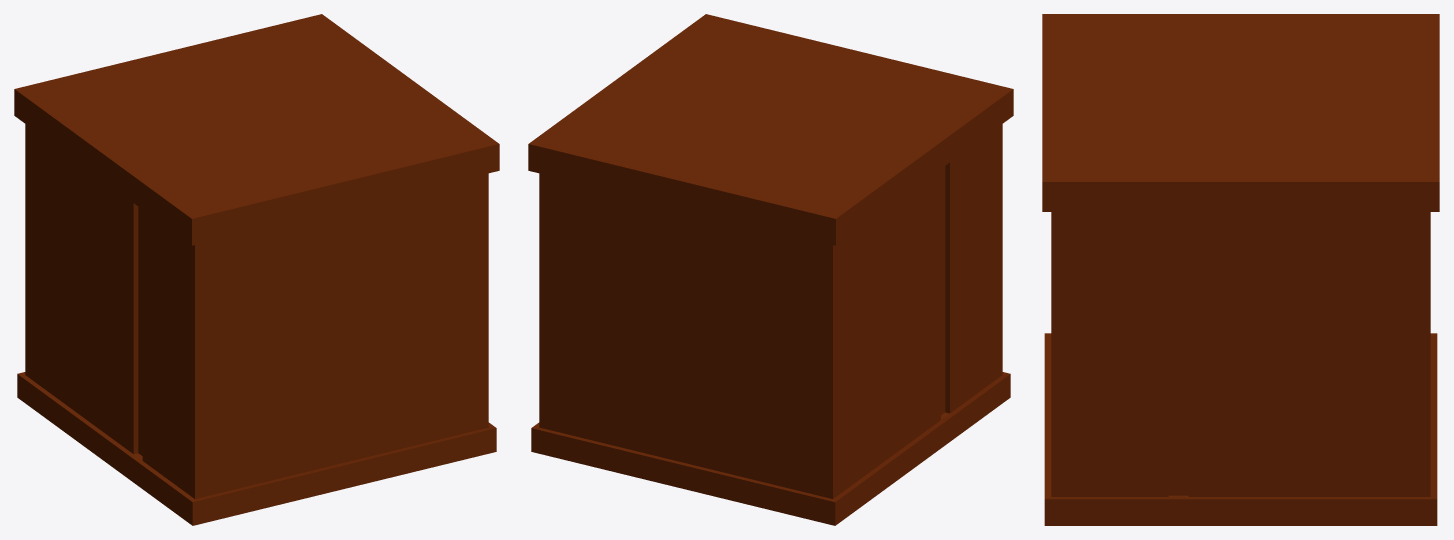
File: enemy2.fbx
3 views of the same model, side by side, from view 1: azimuth 30°, elevation 25°; view 2: azimuth 150°, elevation 25°; view 3: azimuth 270°, elevation 25° (orthographic). The views are drawn at different scales.
Parts seen in each view (by area): view 1: Cube; view 2: Cube; view 3: Cube.
Boxes of the visible parts, box(x1,y1,x2,y2) form: Cube: box(14, 14, 499, 525); Cube: box(528, 14, 1013, 525); Cube: box(1042, 14, 1439, 525).
Size of the model in its own units: 422 by 404 by 422.
